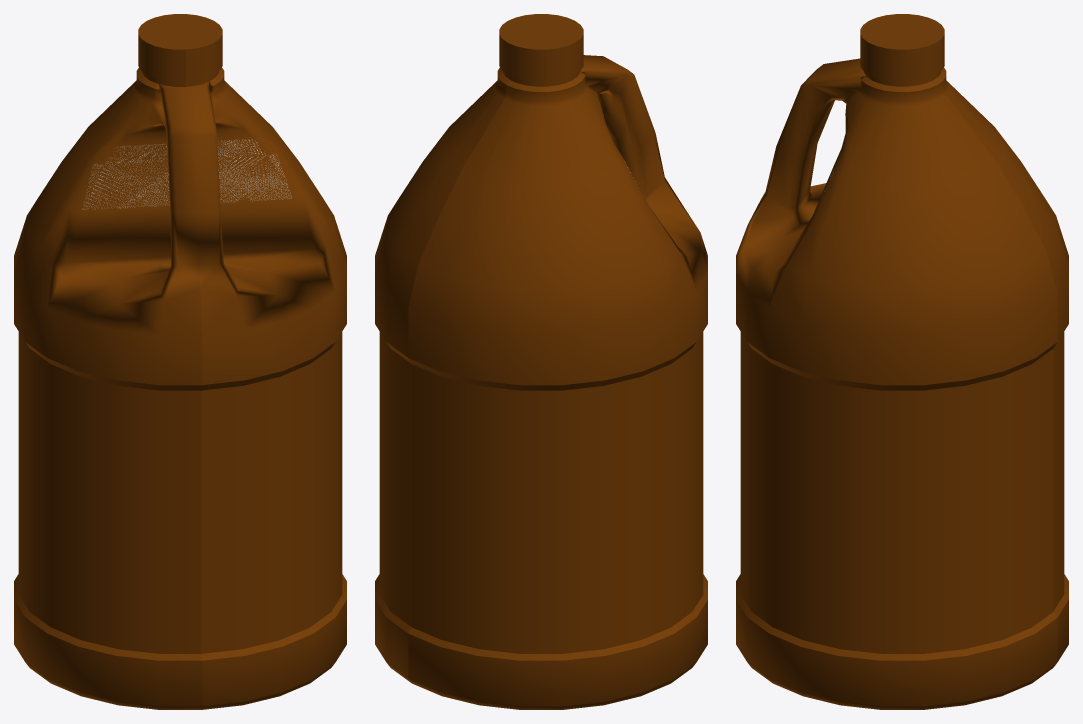
3 renders of one model, left to right at view 1: azimuth 30°, elevation 25°; view 2: azimuth 150°, elevation 25°; view 3: azimuth 270°, elevation 25°, orthographic.
Visible parts, largest first — view 1: mesh1_mesh1-geometry, mesh2_mesh2-geometry; view 2: mesh1_mesh1-geometry, mesh2_mesh2-geometry; view 3: mesh2_mesh2-geometry, mesh1_mesh1-geometry.
Boxes of the visible parts, left/top/right/bottom form: mesh1_mesh1-geometry: left=14, top=14, right=202, bottom=709; mesh2_mesh2-geometry: left=175, top=14, right=346, bottom=709; mesh1_mesh1-geometry: left=408, top=21, right=707, bottom=709; mesh2_mesh2-geometry: left=375, top=14, right=623, bottom=682; mesh2_mesh2-geometry: left=736, top=25, right=1057, bottom=709; mesh1_mesh1-geometry: left=802, top=14, right=1068, bottom=661.
Size of the model in its own units: 0.4054 by 0.8193 by 0.4054.
